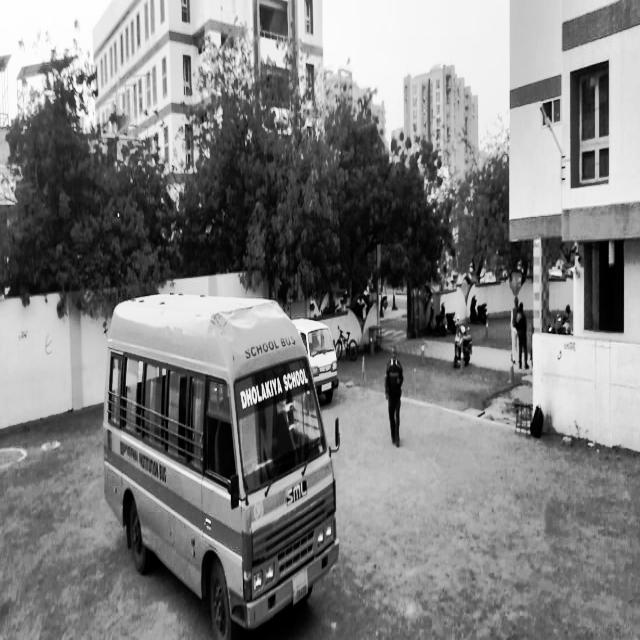Bus: (105, 291, 348, 621)
